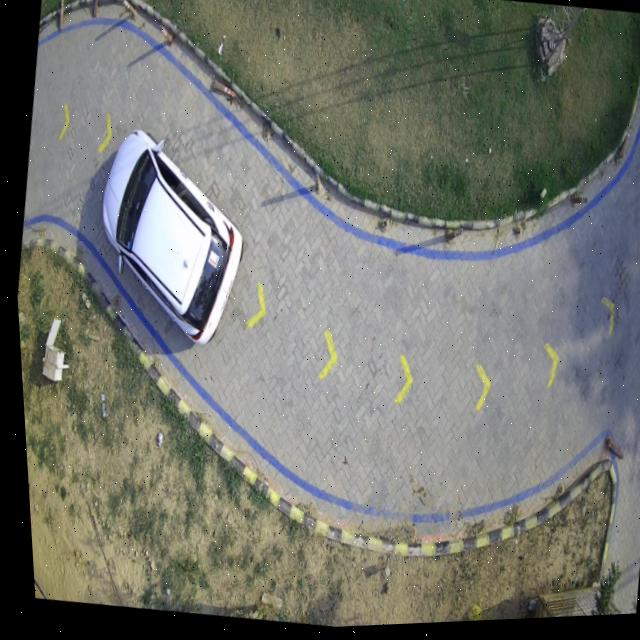car: (99, 131, 238, 347)
